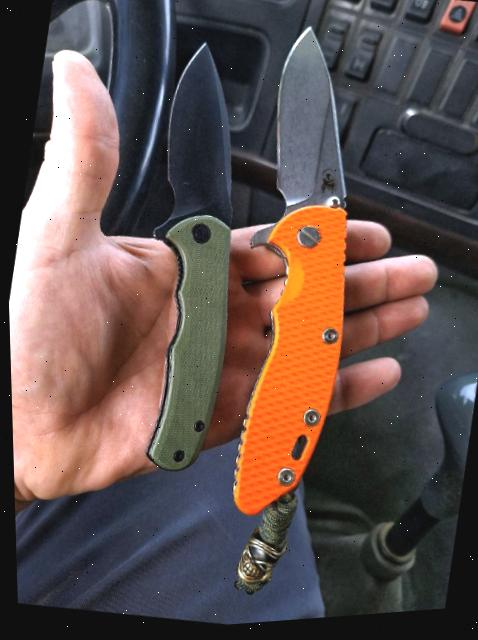pocket-knife: (191, 14, 398, 540), (97, 30, 283, 492)
